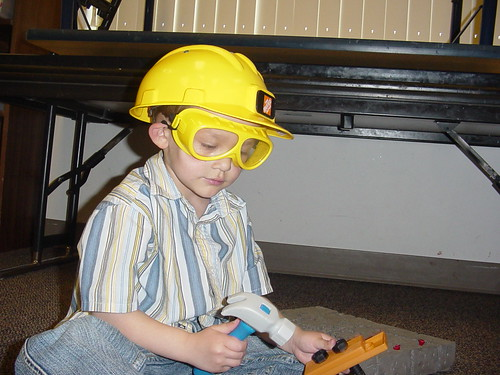person hardhat: (52, 45, 343, 374)
